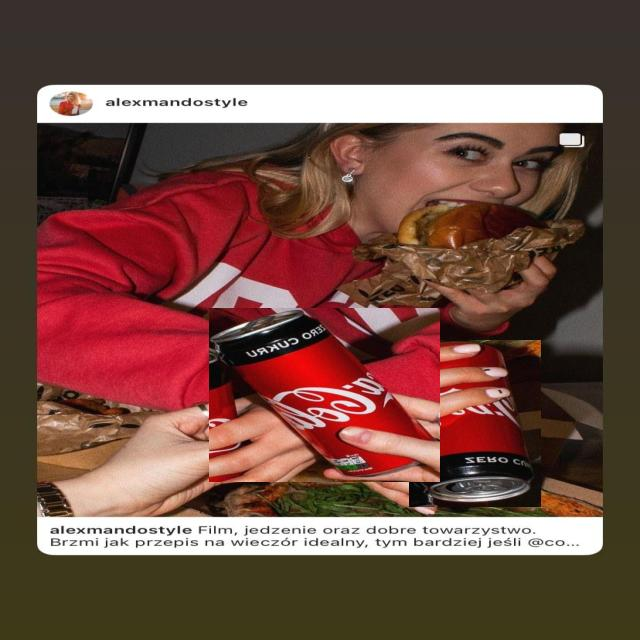coca-cola: (209, 308, 440, 482), (409, 340, 542, 507)
